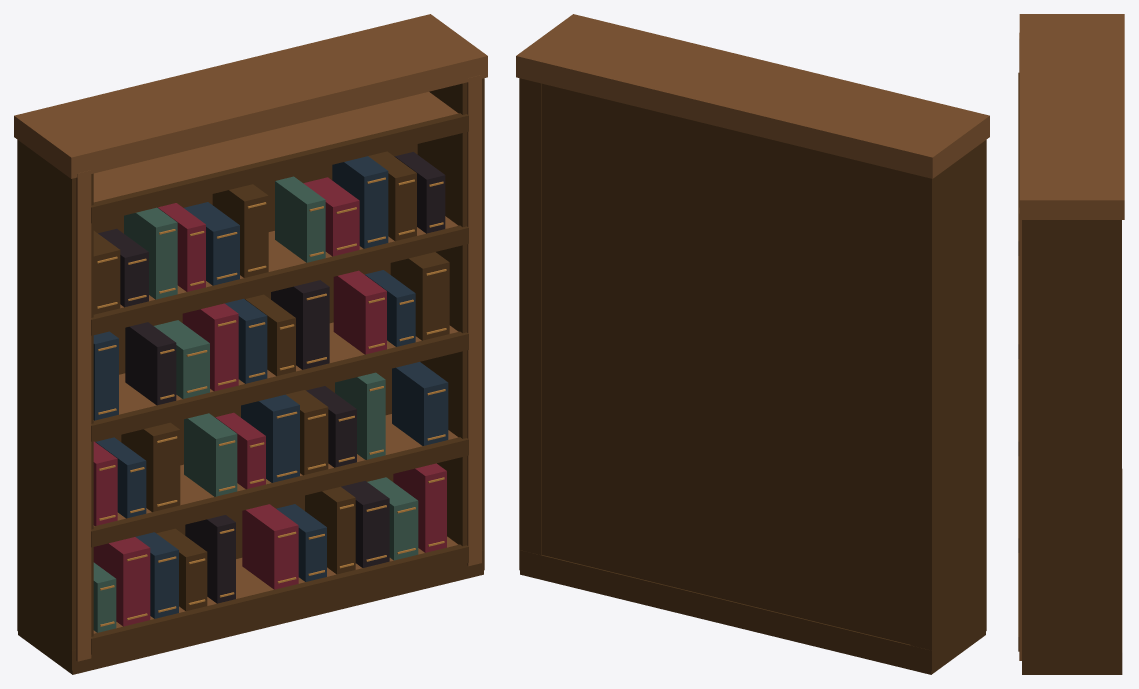
The model's file is mia-bookcase.glb.
3 renders of one model, left to right at view 1: azimuth 30°, elevation 25°; view 2: azimuth 150°, elevation 25°; view 3: azimuth 270°, elevation 25°, orthographic. The views are drawn at different scales.
Visible parts, largest first — view 1: Body_wood, Body_oak, Body_navy-seat, Body_velvet, Body_sage, Body_leather, Body_brass; view 2: Body_wood, Body_oak; view 3: Body_wood, Body_oak.
Part boxes in pixels (x1,y1,x2,y2): Body_wood: (17, 78, 484, 674); Body_oak: (14, 14, 487, 661); Body_navy-seat: (93, 156, 448, 618); Body_velvet: (93, 177, 446, 626); Body_sage: (93, 176, 418, 632); Body_leather: (98, 152, 445, 603); Body_brass: (97, 177, 446, 626); Body_wood: (519, 78, 986, 674); Body_oak: (516, 14, 989, 178); Body_wood: (1018, 72, 1122, 674); Body_oak: (1019, 14, 1124, 660).
Bounding box in the file's own units: 2.02 × 2.4 × 0.486.
